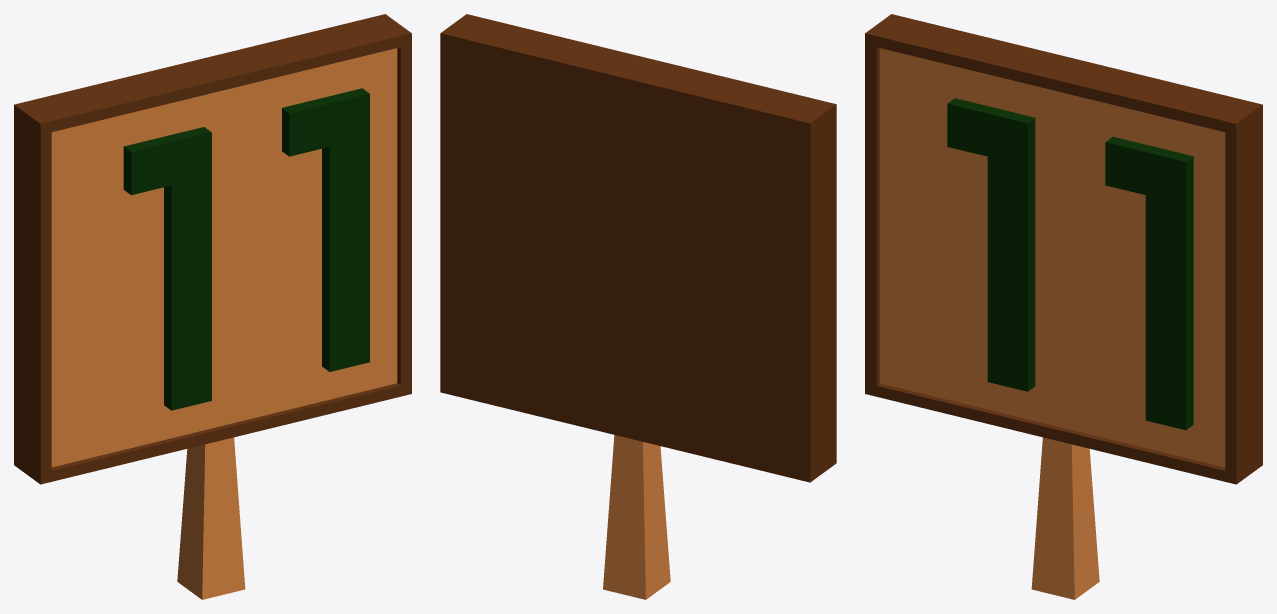
The model's file is Sign_11.fbx.
3 views of the same model, side by side, from view 1: azimuth 30°, elevation 25°; view 2: azimuth 150°, elevation 25°; view 3: azimuth 330°, elevation 25° (orthographic).
Visible parts, largest first — view 1: Cube; view 2: Cube; view 3: Cube.
Boxes of the visible parts, x1,y1,x2,y2 form: Cube: [14, 14, 411, 599]; Cube: [440, 14, 836, 599]; Cube: [865, 14, 1262, 599].
Bounding box in the file's own units: 171 × 228 × 25.28.
